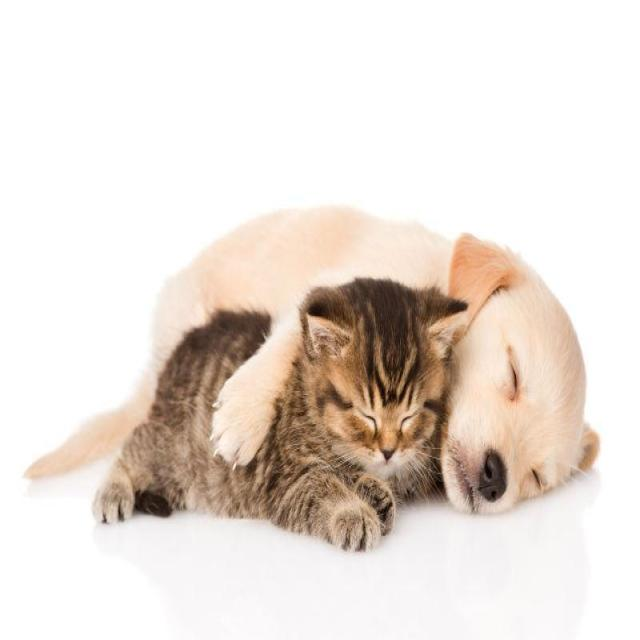cat: (278, 243, 457, 527)
dog: (440, 212, 612, 533)
